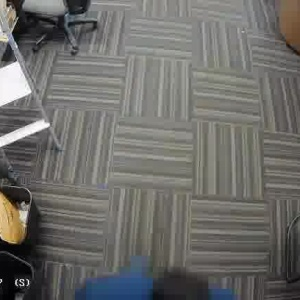person: (65, 256, 228, 300)
